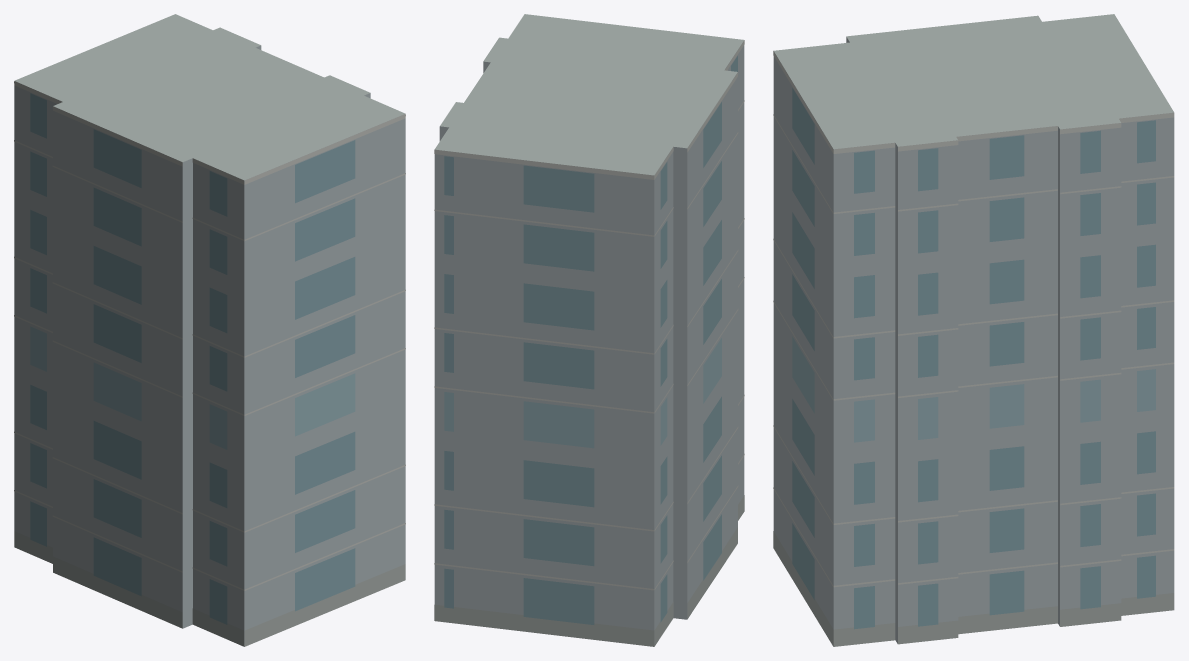
Rendered from survey-upis-32562240.glb.
3 renders of one model, left to right at view 1: azimuth 30°, elevation 25°; view 2: azimuth 150°, elevation 25°; view 3: azimuth 270°, elevation 25°, orthographic. The views are drawn at different scales.
Visible parts, largest first — view 1: survey-upis-32562240.tmp; view 2: survey-upis-32562240.tmp; view 3: survey-upis-32562240.tmp.
Boxes of the visible parts, x1,y1,x2,y2 form: survey-upis-32562240.tmp: (14,14,405,646); survey-upis-32562240.tmp: (434,14,744,646); survey-upis-32562240.tmp: (773,14,1174,646).
Size of the model in its own units: 14.72 by 25.2 by 18.42.
